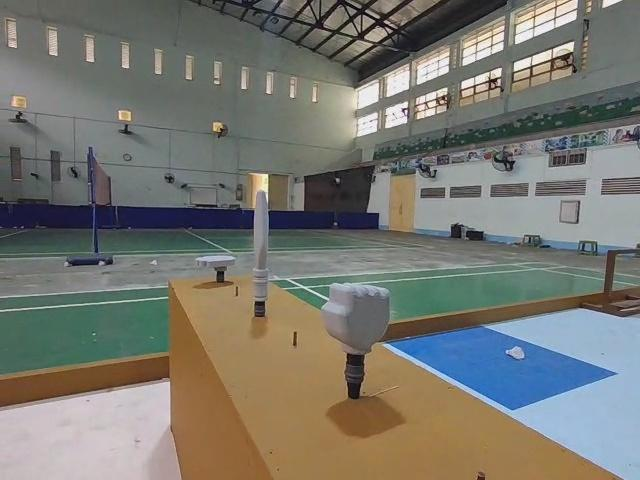Fist: (325, 278, 392, 406)
Hand: (197, 252, 234, 284)
Sph: (252, 190, 274, 320)
